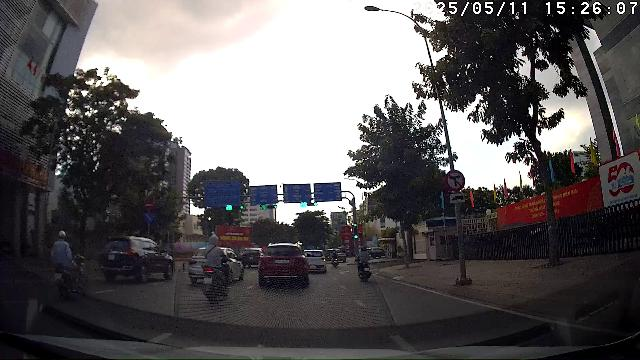137-cam-re-trai-va-re-phai: (444, 170, 466, 192)
